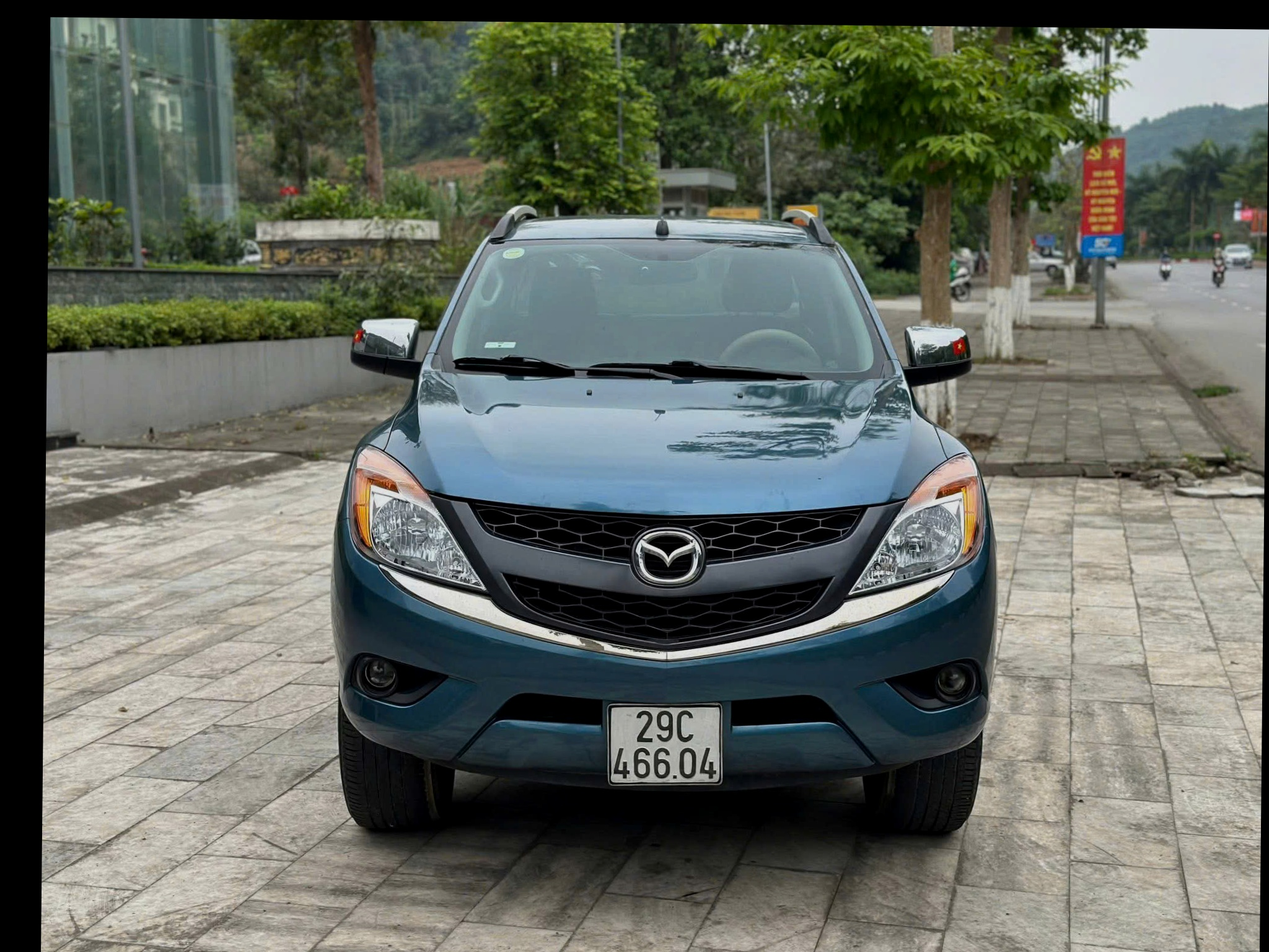Bien-so: (549, 700, 680, 792)
